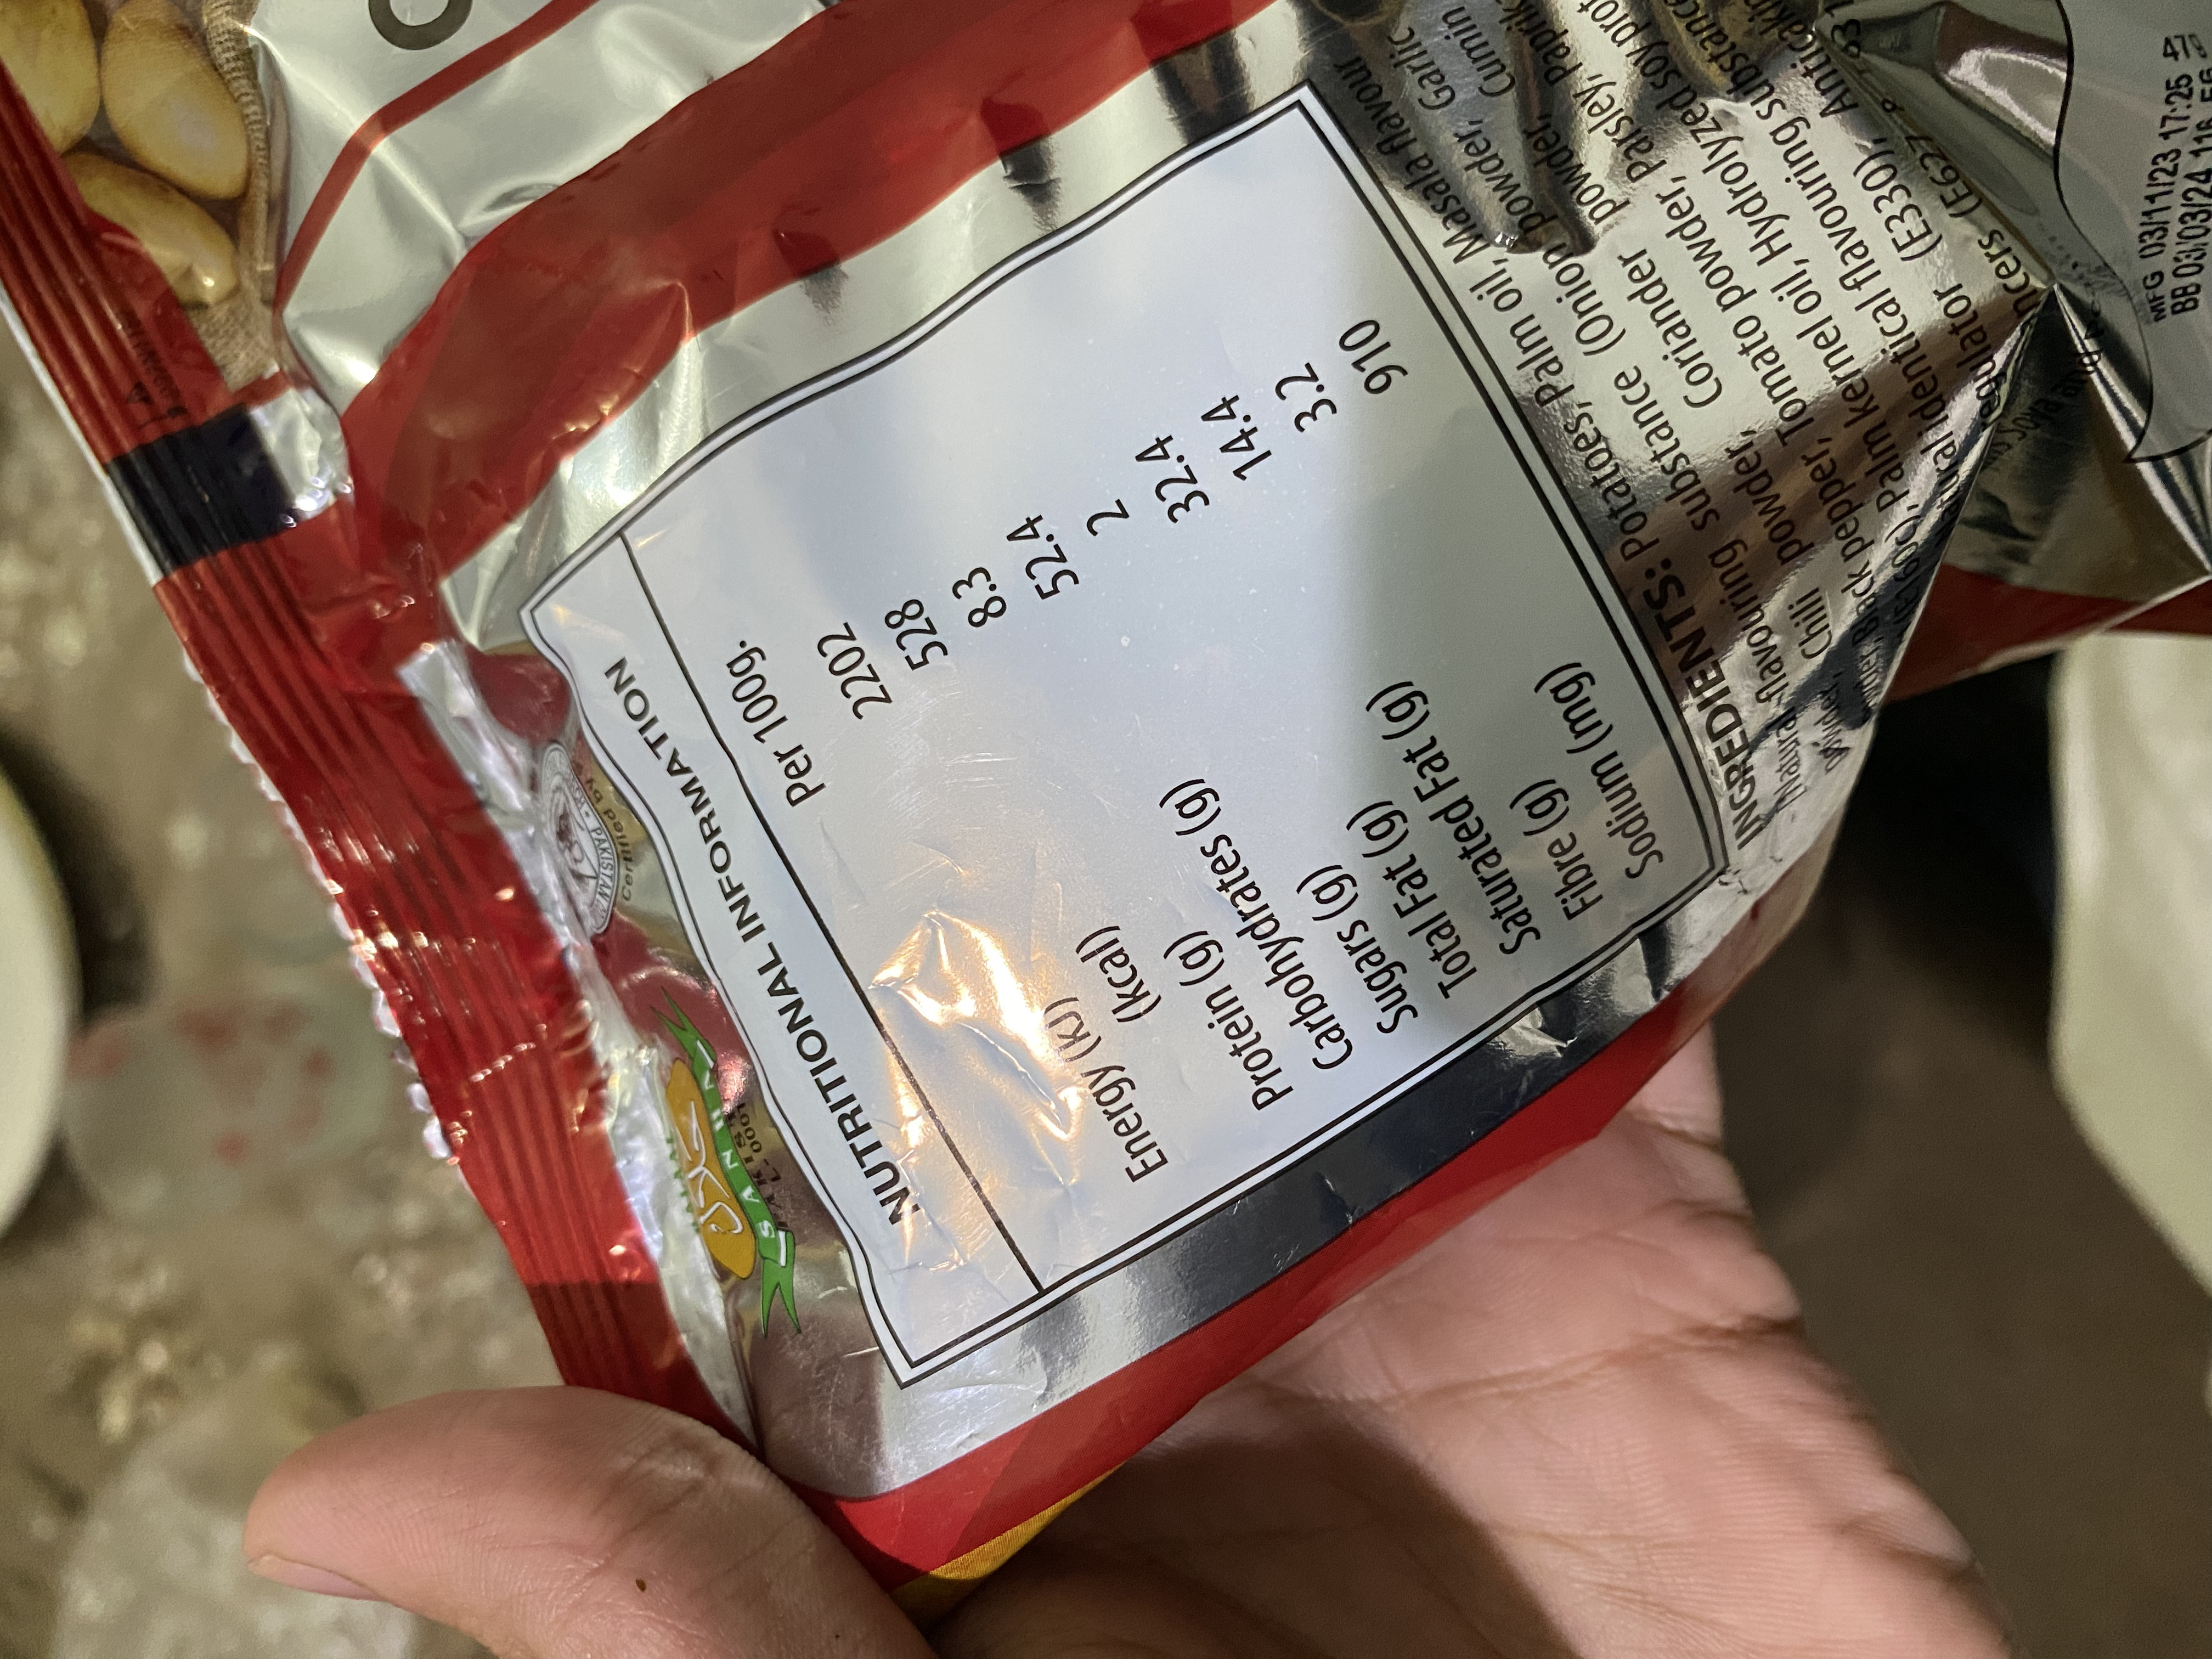table: (519, 82, 1730, 1385)
